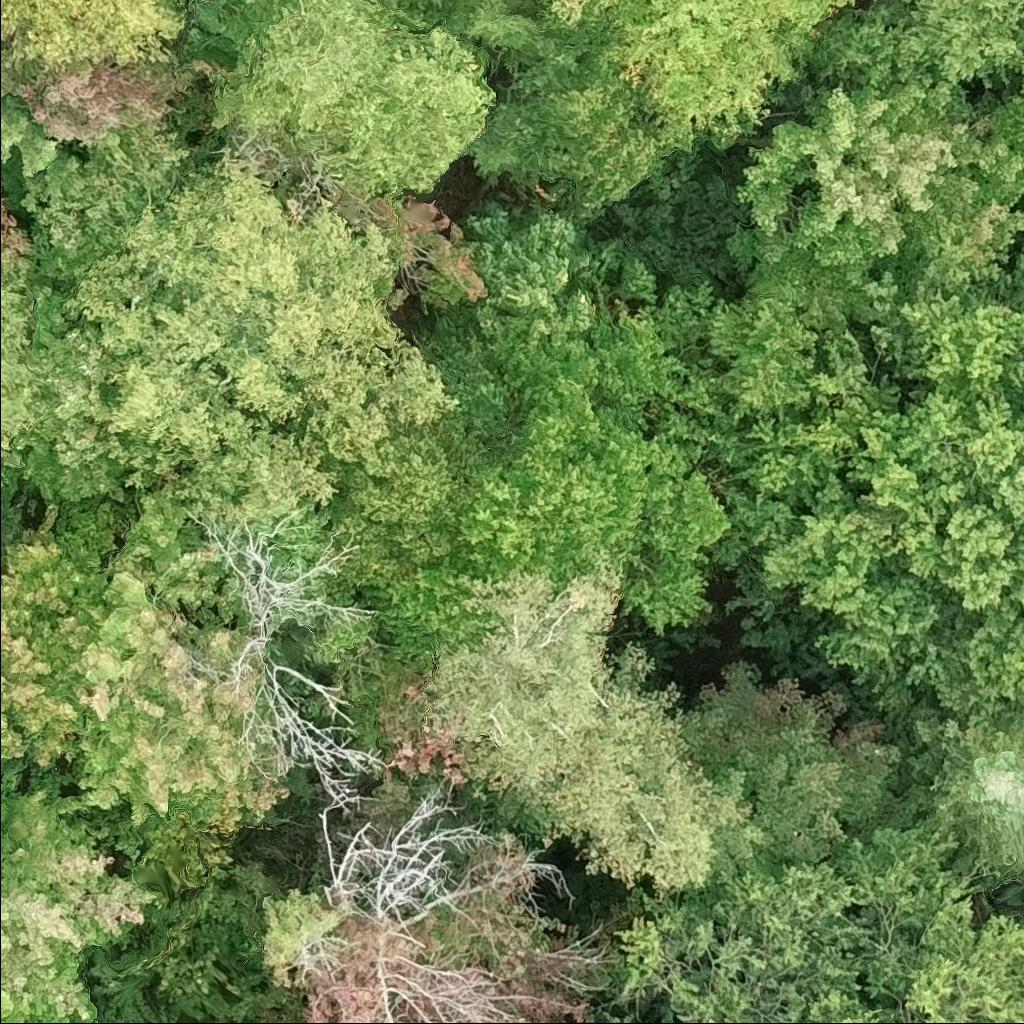crown: (655, 248, 1023, 717), (66, 147, 464, 549), (374, 298, 733, 662), (417, 544, 756, 892), (609, 818, 1023, 1023), (723, 69, 1023, 322), (81, 479, 285, 823), (257, 840, 620, 1023), (203, 509, 391, 817), (204, 0, 493, 198), (687, 660, 917, 878), (0, 765, 166, 1023), (598, 0, 867, 147), (479, 19, 674, 221), (268, 416, 458, 602), (0, 94, 194, 267), (16, 278, 139, 515), (0, 510, 114, 756), (316, 783, 499, 928), (904, 699, 1023, 885), (814, 0, 1023, 88), (14, 64, 184, 157), (0, 243, 61, 494), (0, 0, 185, 75), (0, 973, 78, 1023), (375, 973, 451, 1023), (539, 0, 620, 28), (992, 95, 1023, 156), (162, 0, 190, 11), (88, 1012, 109, 1023), (236, 0, 267, 7), (1017, 49, 1023, 85)
